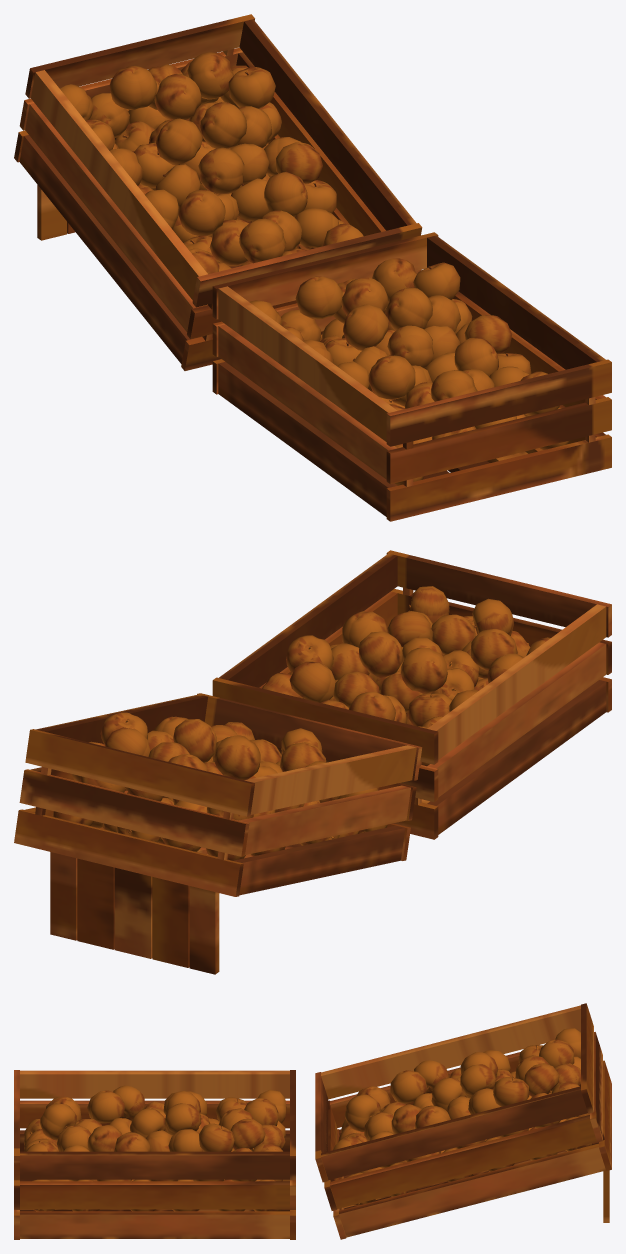
File: fruit crate_5.fbx
The picture shows the model from 3 angles, top to bottom: view 1: azimuth 30°, elevation 25°; view 2: azimuth 150°, elevation 25°; view 3: azimuth 270°, elevation 25°; orthographic projection. The views are drawn at different scales.
Visible parts, largest first — view 1: Cube.008, Cube.014, Plane.451, Plane.480, Plane.455, Plane.477, Plane.428, Plane.096, Plane.457, Plane.465, Plane.037, Plane.099 (+28 smaller); view 2: Cube.014, Cube.008, Cube.025, Plane.099, Plane.457, Plane.121, Plane.054, Plane.480, Plane.110, Plane.096, Plane.117, Plane.107 (+13 smaller); view 3: Cube.014, Cube.008, Plane.096, Plane.455, Plane.107, Plane.465, Plane.121, Plane.480, Plane.117, Plane.478, Plane.474, Plane.054 (+27 smaller).
Part boxes in pixels (x1=…): Cube.008: x1=212, y1=232, x2=611, y2=521; Cube.014: x1=14, y1=14, x2=422, y2=370; Plane.451: x1=198, y1=147, x2=244, y2=193; Plane.480: x1=200, y1=102, x2=246, y2=148; Plane.455: x1=178, y1=189, x2=225, y2=235; Plane.477: x1=154, y1=74, x2=201, y2=119; Plane.428: x1=109, y1=65, x2=156, y2=109; Plane.096: x1=368, y1=355, x2=415, y2=399; Plane.457: x1=156, y1=118, x2=202, y2=164; Plane.465: x1=239, y1=218, x2=286, y2=263; Plane.037: x1=295, y1=276, x2=342, y2=319; Plane.099: x1=343, y1=304, x2=388, y2=350; Cube.014: x1=14, y1=693, x2=422, y2=896; Cube.008: x1=212, y1=550, x2=611, y2=839; Cube.025: x1=50, y1=852, x2=219, y2=974; Plane.099: x1=400, y1=648, x2=447, y2=694; Plane.457: x1=214, y1=735, x2=260, y2=780; Plane.121: x1=359, y1=631, x2=403, y2=678; Plane.054: x1=289, y1=661, x2=335, y2=702; Plane.480: x1=173, y1=719, x2=216, y2=762; Plane.110: x1=431, y1=614, x2=475, y2=654; Plane.096: x1=470, y1=629, x2=517, y2=670; Plane.117: x1=286, y1=635, x2=333, y2=672; Plane.107: x1=472, y1=598, x2=513, y2=635; Cube.014: x1=315, y1=1003, x2=611, y2=1239; Cube.008: x1=14, y1=1070, x2=295, y2=1239; Plane.096: x1=87, y1=1090, x2=124, y2=1123; Plane.455: x1=390, y1=1070, x2=427, y2=1103; Plane.107: x1=40, y1=1103, x2=76, y2=1140; Plane.465: x1=344, y1=1094, x2=380, y2=1131; Plane.121: x1=164, y1=1103, x2=201, y2=1135; Plane.480: x1=460, y1=1064, x2=496, y2=1098; Plane.117: x1=199, y1=1123, x2=235, y2=1151; Plane.478: x1=493, y1=1077, x2=529, y2=1106; Plane.474: x1=524, y1=1063, x2=559, y2=1096; Plane.054: x1=230, y1=1119, x2=265, y2=1149.
Size of the model in its own units: 26.86 by 21.97 by 78.99.
